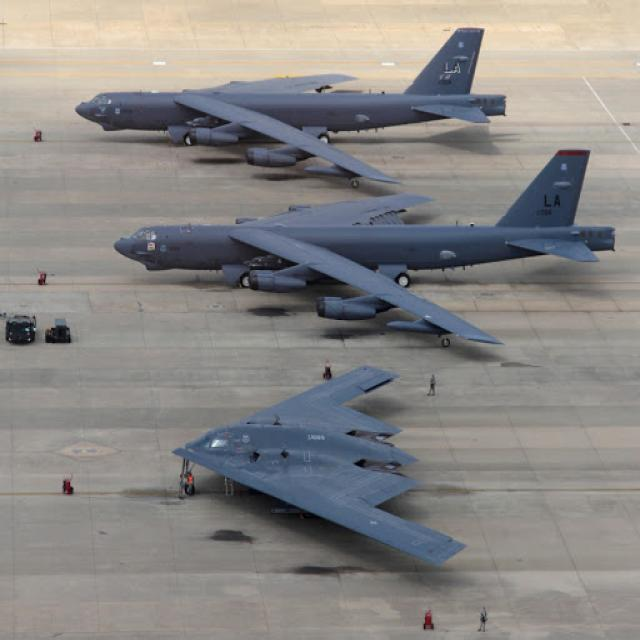MIL_Plane: (113, 147, 615, 347), (0, 26, 316, 189), (170, 428, 469, 502)
